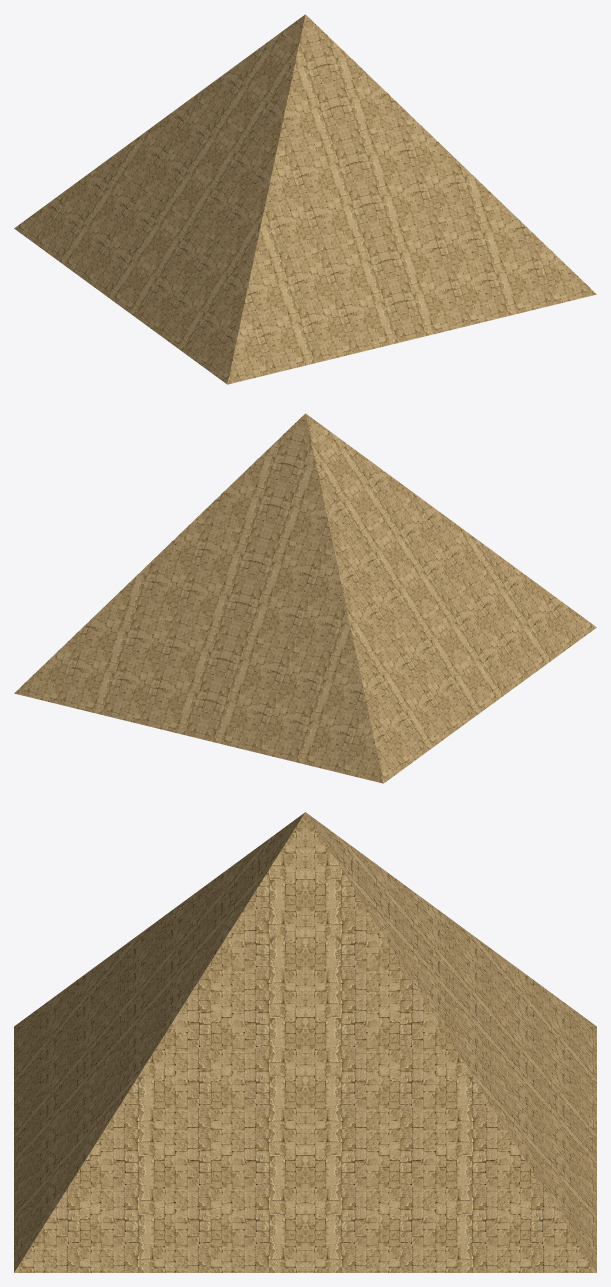
Rendered from great_pyramid_giza.glb.
3 views of the same model, one above another, from view 1: azimuth 30°, elevation 25°; view 2: azimuth 150°, elevation 25°; view 3: azimuth 270°, elevation 25° (orthographic). The views are drawn at different scales.
Parts seen in each view (by area): view 1: pyr; view 2: pyr; view 3: pyr.
Boxes of the visible parts, x1,y1,x2,y2 form: pyr: (14,14,596,384); pyr: (14,413,596,783); pyr: (14,812,596,1272).
Bounding box in the file's own units: 230 × 147 × 230.
1 material, 1 textured.
